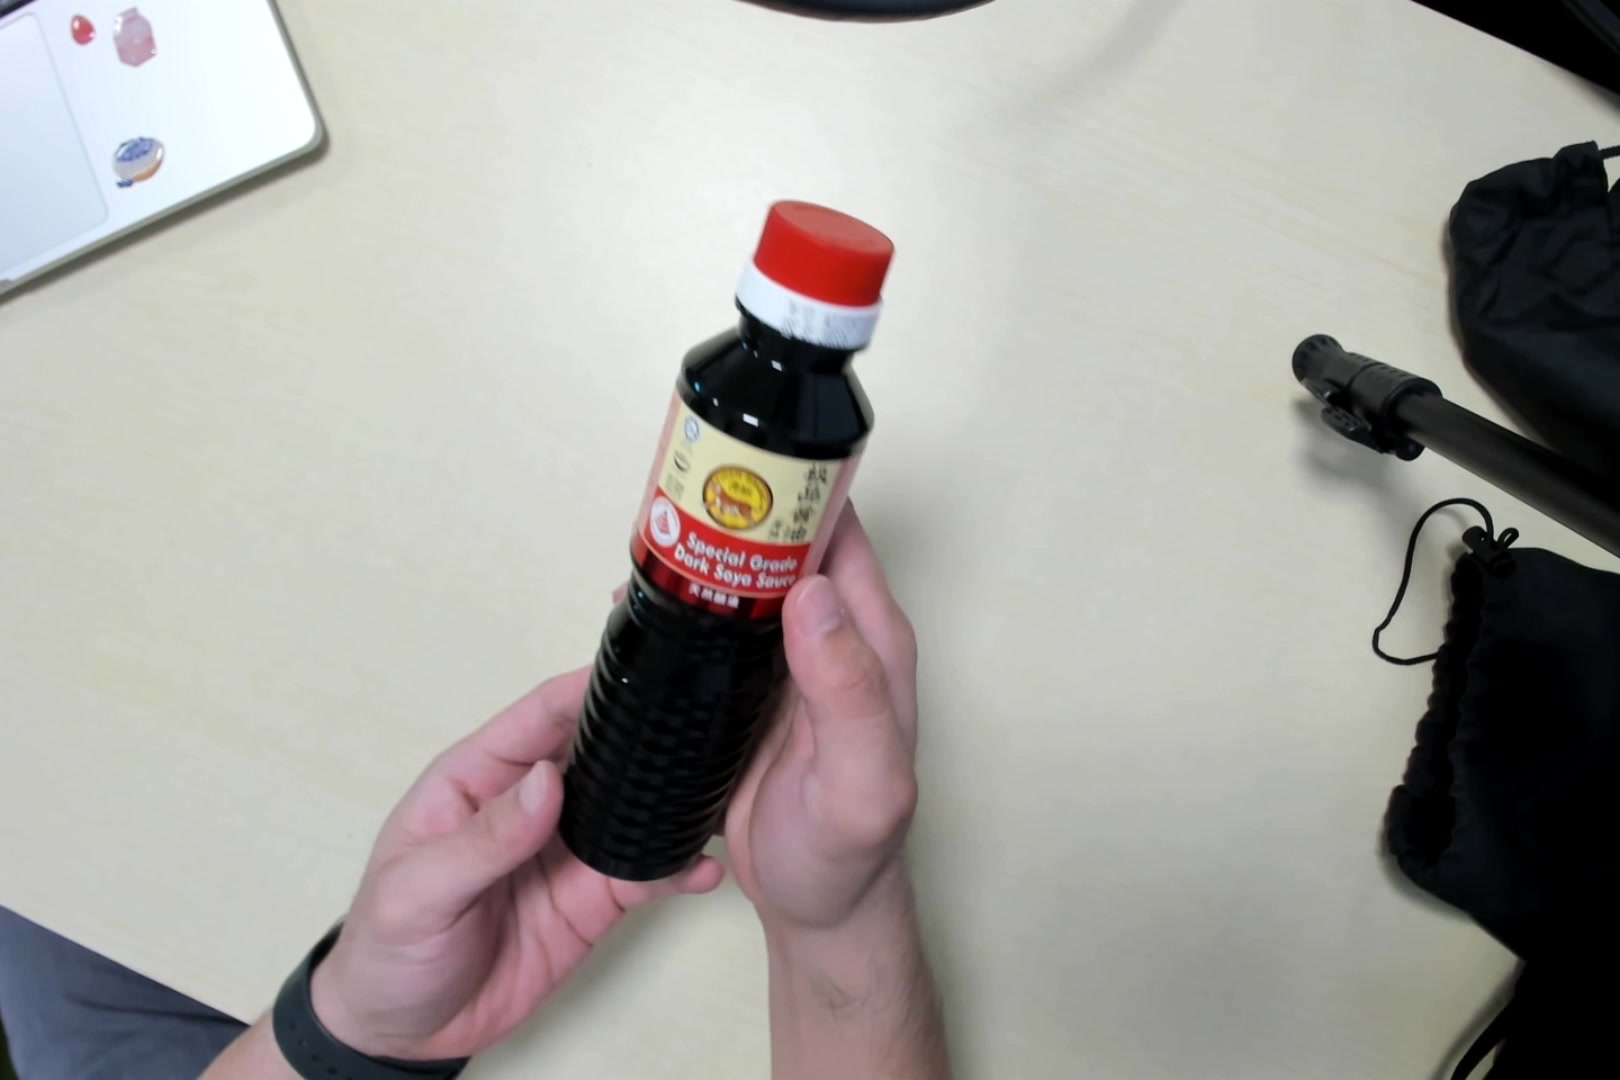DarkSoySauce_300-399g_Halal_NonHealthy: (558, 201, 879, 874)
